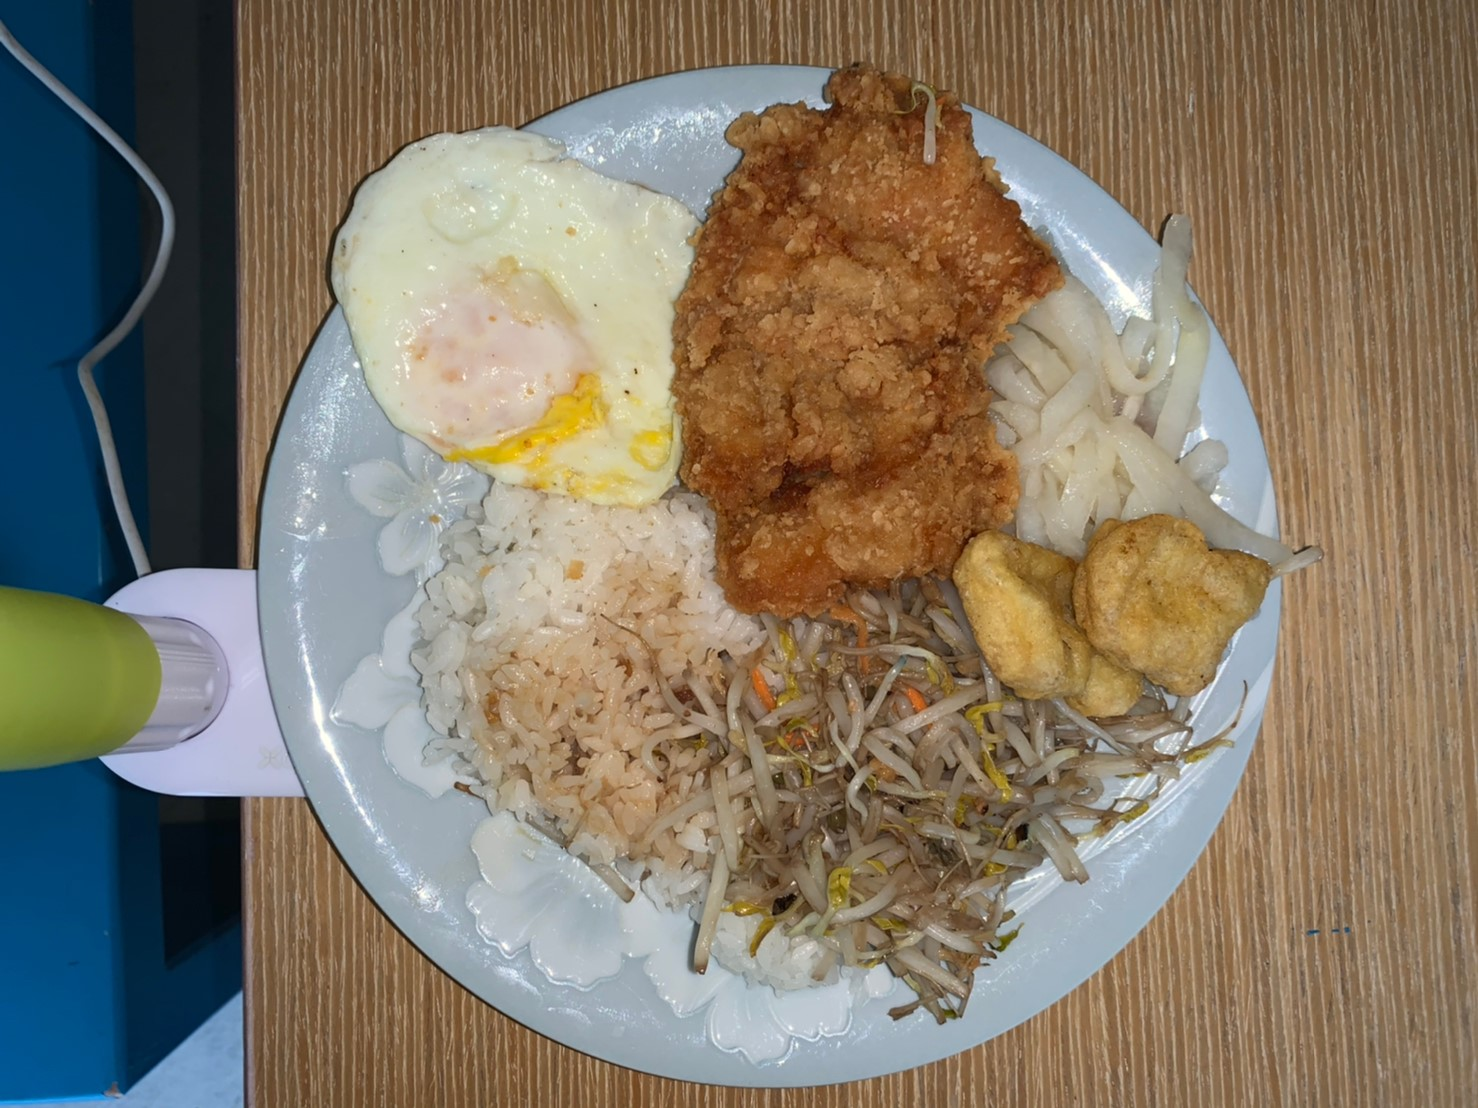chicken_nuggets: (948, 513, 1267, 713)
fried_chicken: (666, 81, 1038, 616)
fried_eggs: (353, 127, 669, 519)
mung_bean_sprouts: (740, 634, 1029, 950)
rice: (459, 524, 719, 853)
